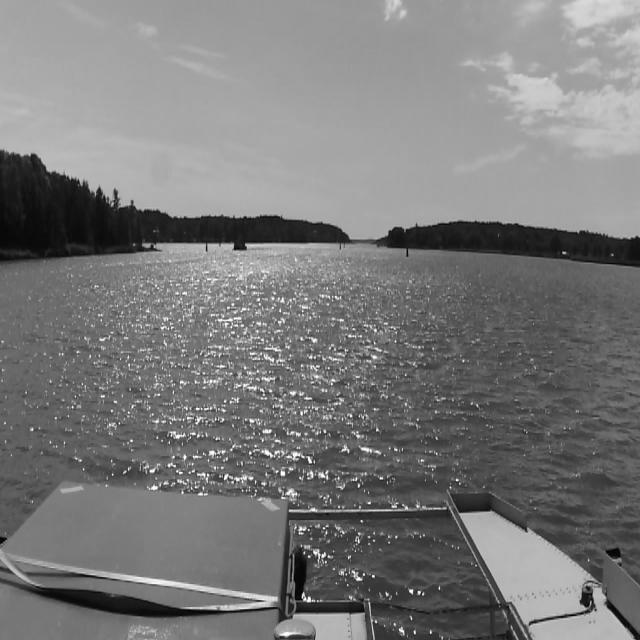buoy: (205, 239, 208, 253), (406, 243, 409, 257)
ship: (233, 228, 247, 250)
